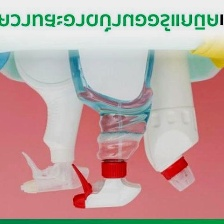cleaning_solution: (68, 5, 158, 212), (9, 4, 97, 196), (127, 1, 203, 193)
